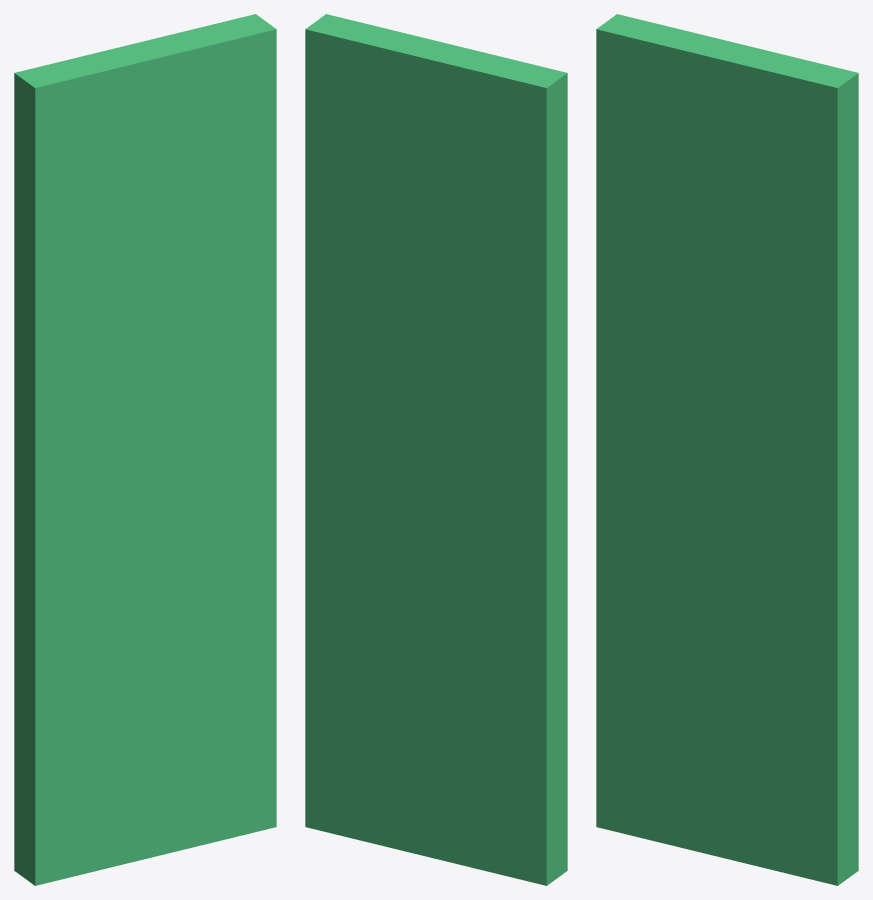
File: road_sign_8.dae
3 views of the same model, side by side, from view 1: azimuth 30°, elevation 25°; view 2: azimuth 150°, elevation 25°; view 3: azimuth 330°, elevation 25° (orthographic).
Visible parts, largest first — view 1: Colmesh-1; view 2: Colmesh-1; view 3: Colmesh-1.
Part boxes in pixels (left/top/right/bottom): Colmesh-1: left=14, top=14, right=276, bottom=885; Colmesh-1: left=305, top=14, right=567, bottom=885; Colmesh-1: left=596, top=14, right=858, bottom=885.
Bounding box in the file's own units: 40.14 × 6 × 127.
